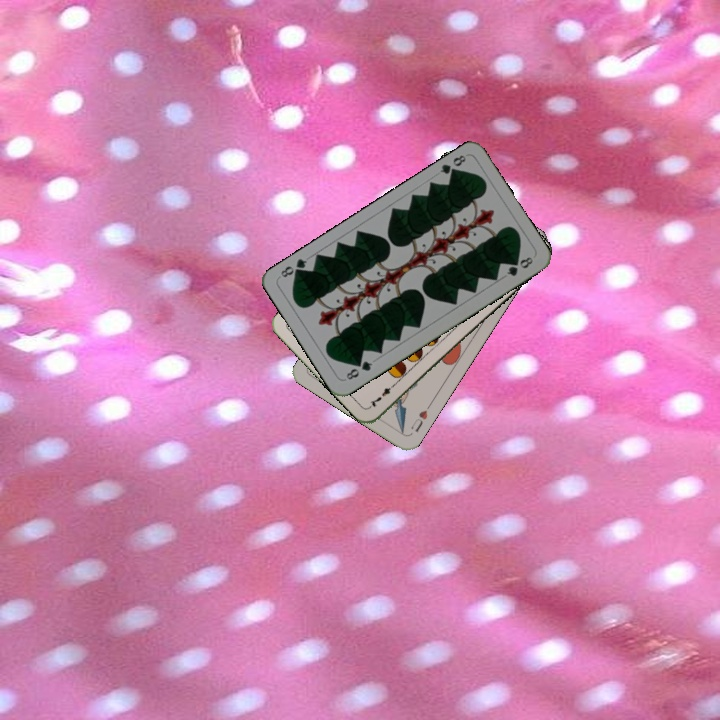E7: (366, 379, 399, 410)
G8: (436, 151, 469, 180), (342, 357, 375, 383)
HU: (407, 406, 430, 435)
